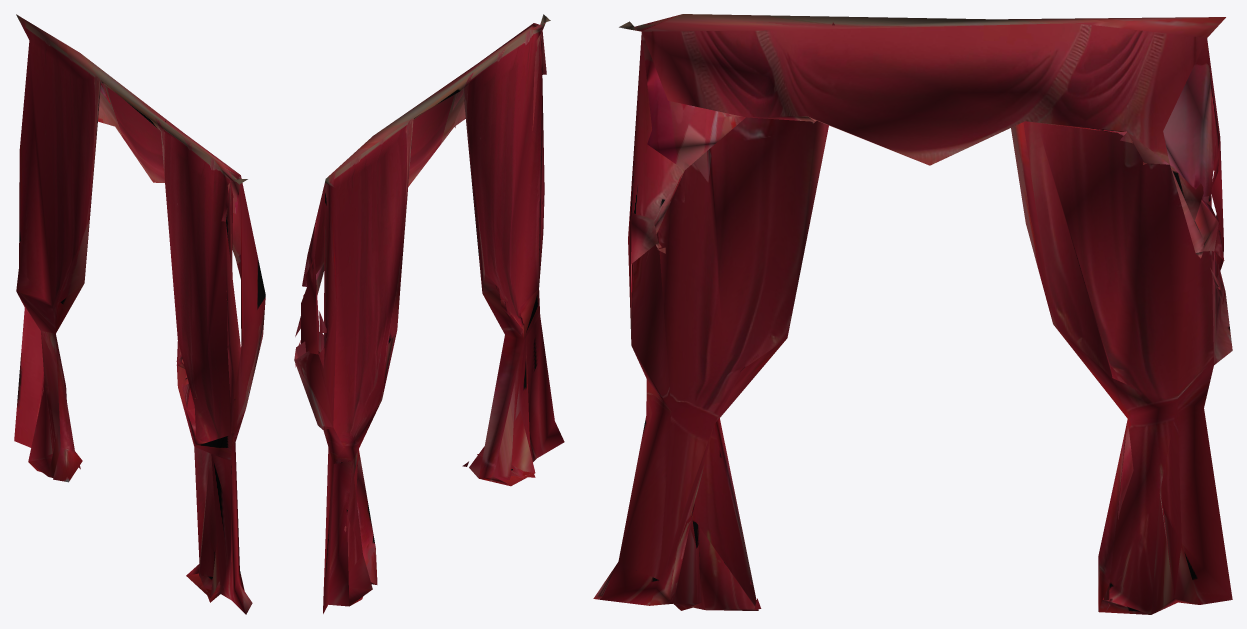
The model's file is Curtun.fbx.
3 views of the same model, side by side, from view 1: azimuth 30°, elevation 25°; view 2: azimuth 150°, elevation 25°; view 3: azimuth 270°, elevation 25° (orthographic). The views are drawn at different scales.
Parts seen in each view (by area): view 1: tripo_node_f22eb4a4; view 2: tripo_node_f22eb4a4; view 3: tripo_node_f22eb4a4.
Part boxes in pixels (x1,y1,x2,y2): tripo_node_f22eb4a4: [14, 14, 265, 614]; tripo_node_f22eb4a4: [294, 14, 564, 613]; tripo_node_f22eb4a4: [593, 14, 1232, 614].
Size of the model in its own units: 9.98 by 93.21 by 90.02.
1 material, 1 textured.
